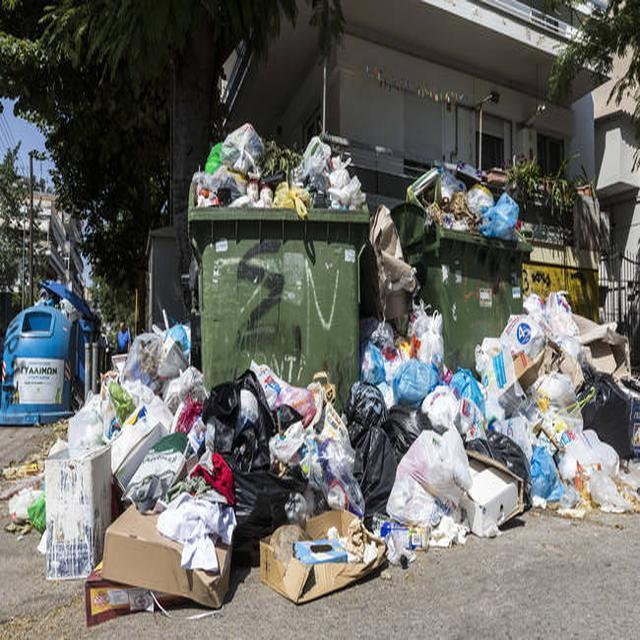garbage: (136, 308, 427, 631), (417, 283, 638, 547), (0, 423, 119, 588), (181, 123, 374, 217), (407, 165, 533, 242)
